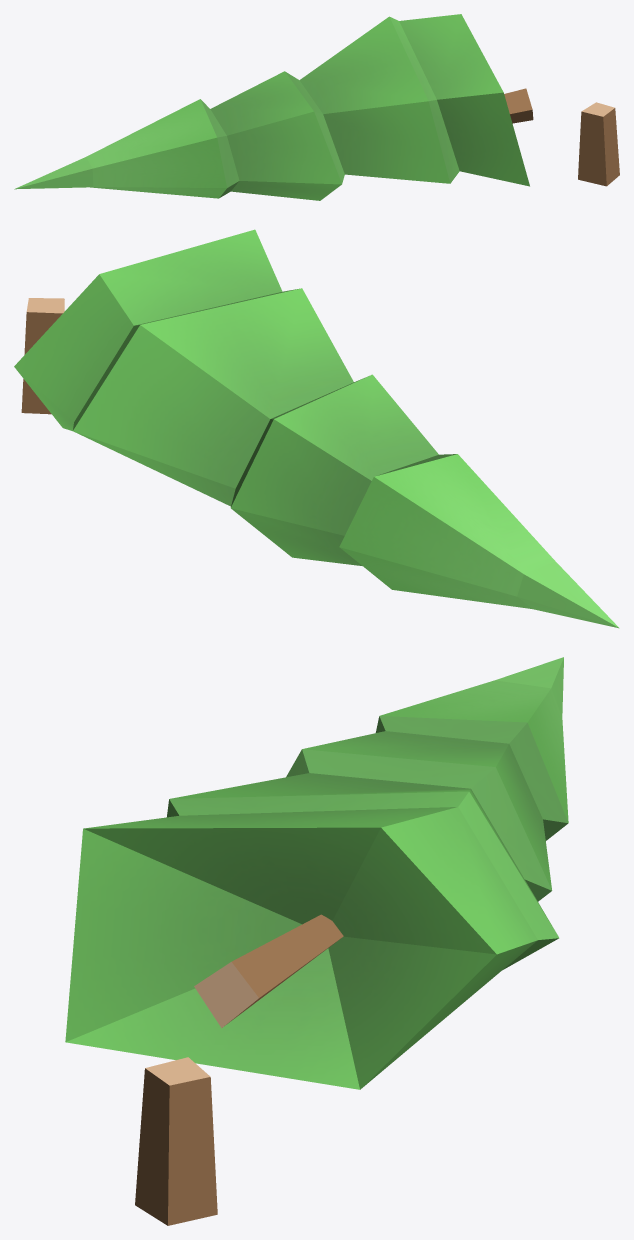
Rendered from Fir_Tree_crk_m_04.fbx.
3 views of the same model, one above another, from view 1: azimuth 30°, elevation 25°; view 2: azimuth 150°, elevation 25°; view 3: azimuth 270°, elevation 25° (orthographic). The views are drawn at different scales.
Parts seen in each view (by area): view 1: Fir_Tree_crk_m_04; view 2: Fir_Tree_crk_m_04; view 3: Fir_Tree_crk_m_04.
Boxes of the visible parts, x1=… form: Fir_Tree_crk_m_04: x1=14, y1=14, x2=619, y2=200; Fir_Tree_crk_m_04: x1=14, y1=229, x2=619, y2=628; Fir_Tree_crk_m_04: x1=65, y1=657, x2=568, y2=1225.
Size of the model in its own units: 332 by 98.31 by 143.
